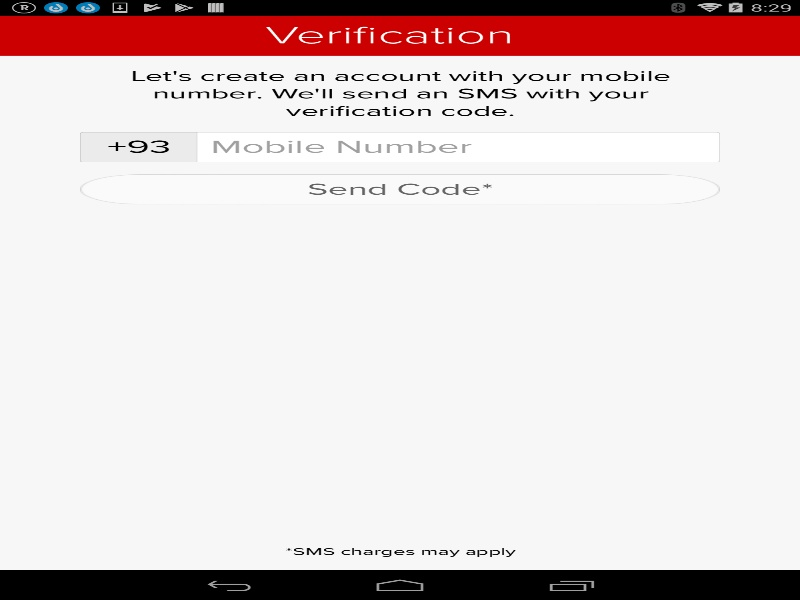Button: (80, 174, 720, 204), (80, 132, 197, 162)
Input: (197, 136, 720, 157)
